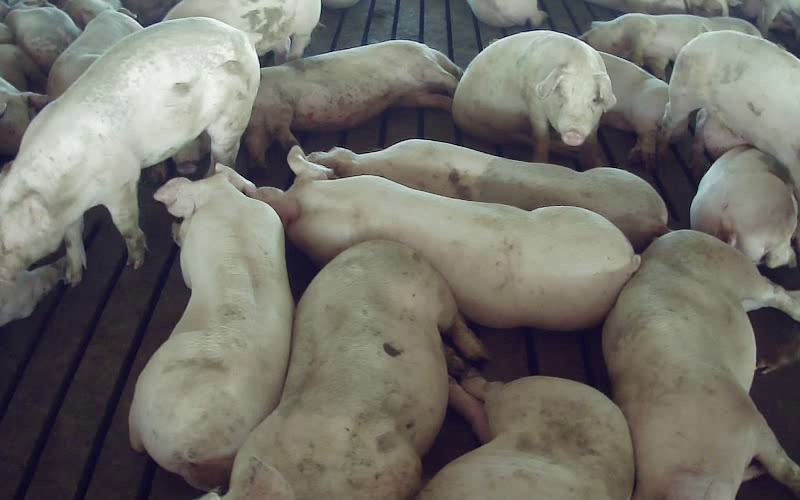pig: (255, 149, 638, 329), (0, 17, 259, 283), (227, 241, 481, 499), (129, 164, 293, 489), (603, 230, 799, 499), (308, 139, 666, 249), (246, 40, 461, 165), (419, 376, 633, 499), (664, 31, 799, 203), (452, 30, 615, 164), (690, 146, 796, 267), (580, 13, 760, 78), (164, 0, 320, 63), (47, 8, 141, 100)
